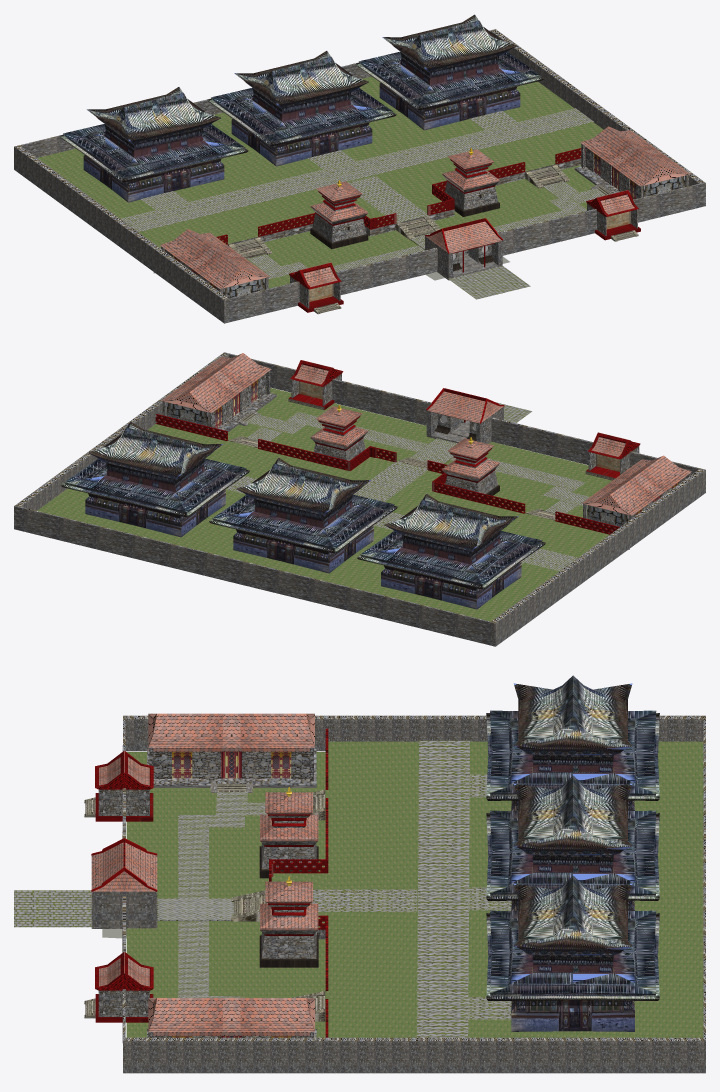
Rendered from AreaTemplos.fbx.
3 renders of one model, top to bottom at view 1: azimuth 30°, elevation 25°; view 2: azimuth 150°, elevation 25°; view 3: azimuth 270°, elevation 25°, orthographic. The views are drawn at different scales.
Parts seen in each view (by area): view 1: TemploPrincipal.002, Muro_Rod.002, Muro_Rod, Plane.005, CasetaCentral.003, Cube.005, CasetasLaterales, CasetaCentral, Plane.004, Plane.003, Cube.004, Cube (+1 smaller); view 2: TemploPrincipal.002, Muro_Rod, Muro_Rod.002, CasetaCentral.003, Plane.005, Cube.005, Plane.004, CasetasLaterales, CasetaCentral, Cube, Cube.007; view 3: Muro_Rod.002, TemploPrincipal.002, Muro_Rod, Plane.005, CasetaCentral.003, Cube.005, CasetasLaterales, CasetaCentral, Plane.003, Cube.007, Plane.004, Cube (+2 smaller).
Part boxes in pixels (left/top/right/bottom): TemploPrincipal.002: left=59, top=14, right=544, bottom=202; Muro_Rod.002: left=37, top=76, right=603, bottom=288; Muro_Rod: left=14, top=29, right=705, bottom=323; Plane.005: left=120, top=108, right=605, bottom=278; CasetaCentral.003: left=160, top=126, right=690, bottom=298; Cube.005: left=310, top=148, right=499, bottom=249; CasetasLaterales: left=289, top=190, right=638, bottom=308; CasetaCentral: left=425, top=221, right=502, bottom=280; Plane.004: left=165, top=147, right=585, bottom=251; Plane.003: left=446, top=266, right=530, bottom=299; Cube.004: left=228, top=164, right=569, bottom=258; Cube: left=298, top=224, right=640, bottom=314; TemploPrincipal.002: left=61, top=421, right=545, bottom=609; Muro_Rod: left=14, top=352, right=705, bottom=646; Muro_Rod.002: left=37, top=387, right=629, bottom=621; CasetaCentral.003: left=161, top=353, right=691, bottom=533; Plane.005: left=226, top=412, right=589, bottom=571; Cube.005: left=310, top=405, right=499, bottom=502; Plane.004: left=155, top=414, right=619, bottom=534; CasetasLaterales: left=290, top=360, right=640, bottom=474; CasetaCentral: left=426, top=391, right=503, bottom=443; Cube: left=288, top=394, right=619, bottom=480; Cube.007: left=213, top=392, right=582, bottom=526; Muro_Rod.002: left=126, top=741, right=703, bottom=1037; TemploPrincipal.002: left=486, top=675, right=659, bottom=1031; Muro_Rod: left=122, top=715, right=705, bottom=1073; Plane.005: left=178, top=740, right=511, bottom=1037; CasetaCentral.003: left=148, top=713, right=314, bottom=1037; Cube.005: left=259, top=787, right=318, bottom=967; CasetasLaterales: left=95, top=750, right=153, bottom=1016; CasetaCentral: left=91, top=842, right=157, bottom=928; Plane.003: left=14, top=890, right=99, bottom=927; Cube.007: left=147, top=748, right=316, bottom=1037; Plane.004: left=269, top=728, right=328, bottom=1037; Cube: left=84, top=793, right=153, bottom=1022.
Size of what is drawn, in the model's own units: 1791 by 308 by 1608.
